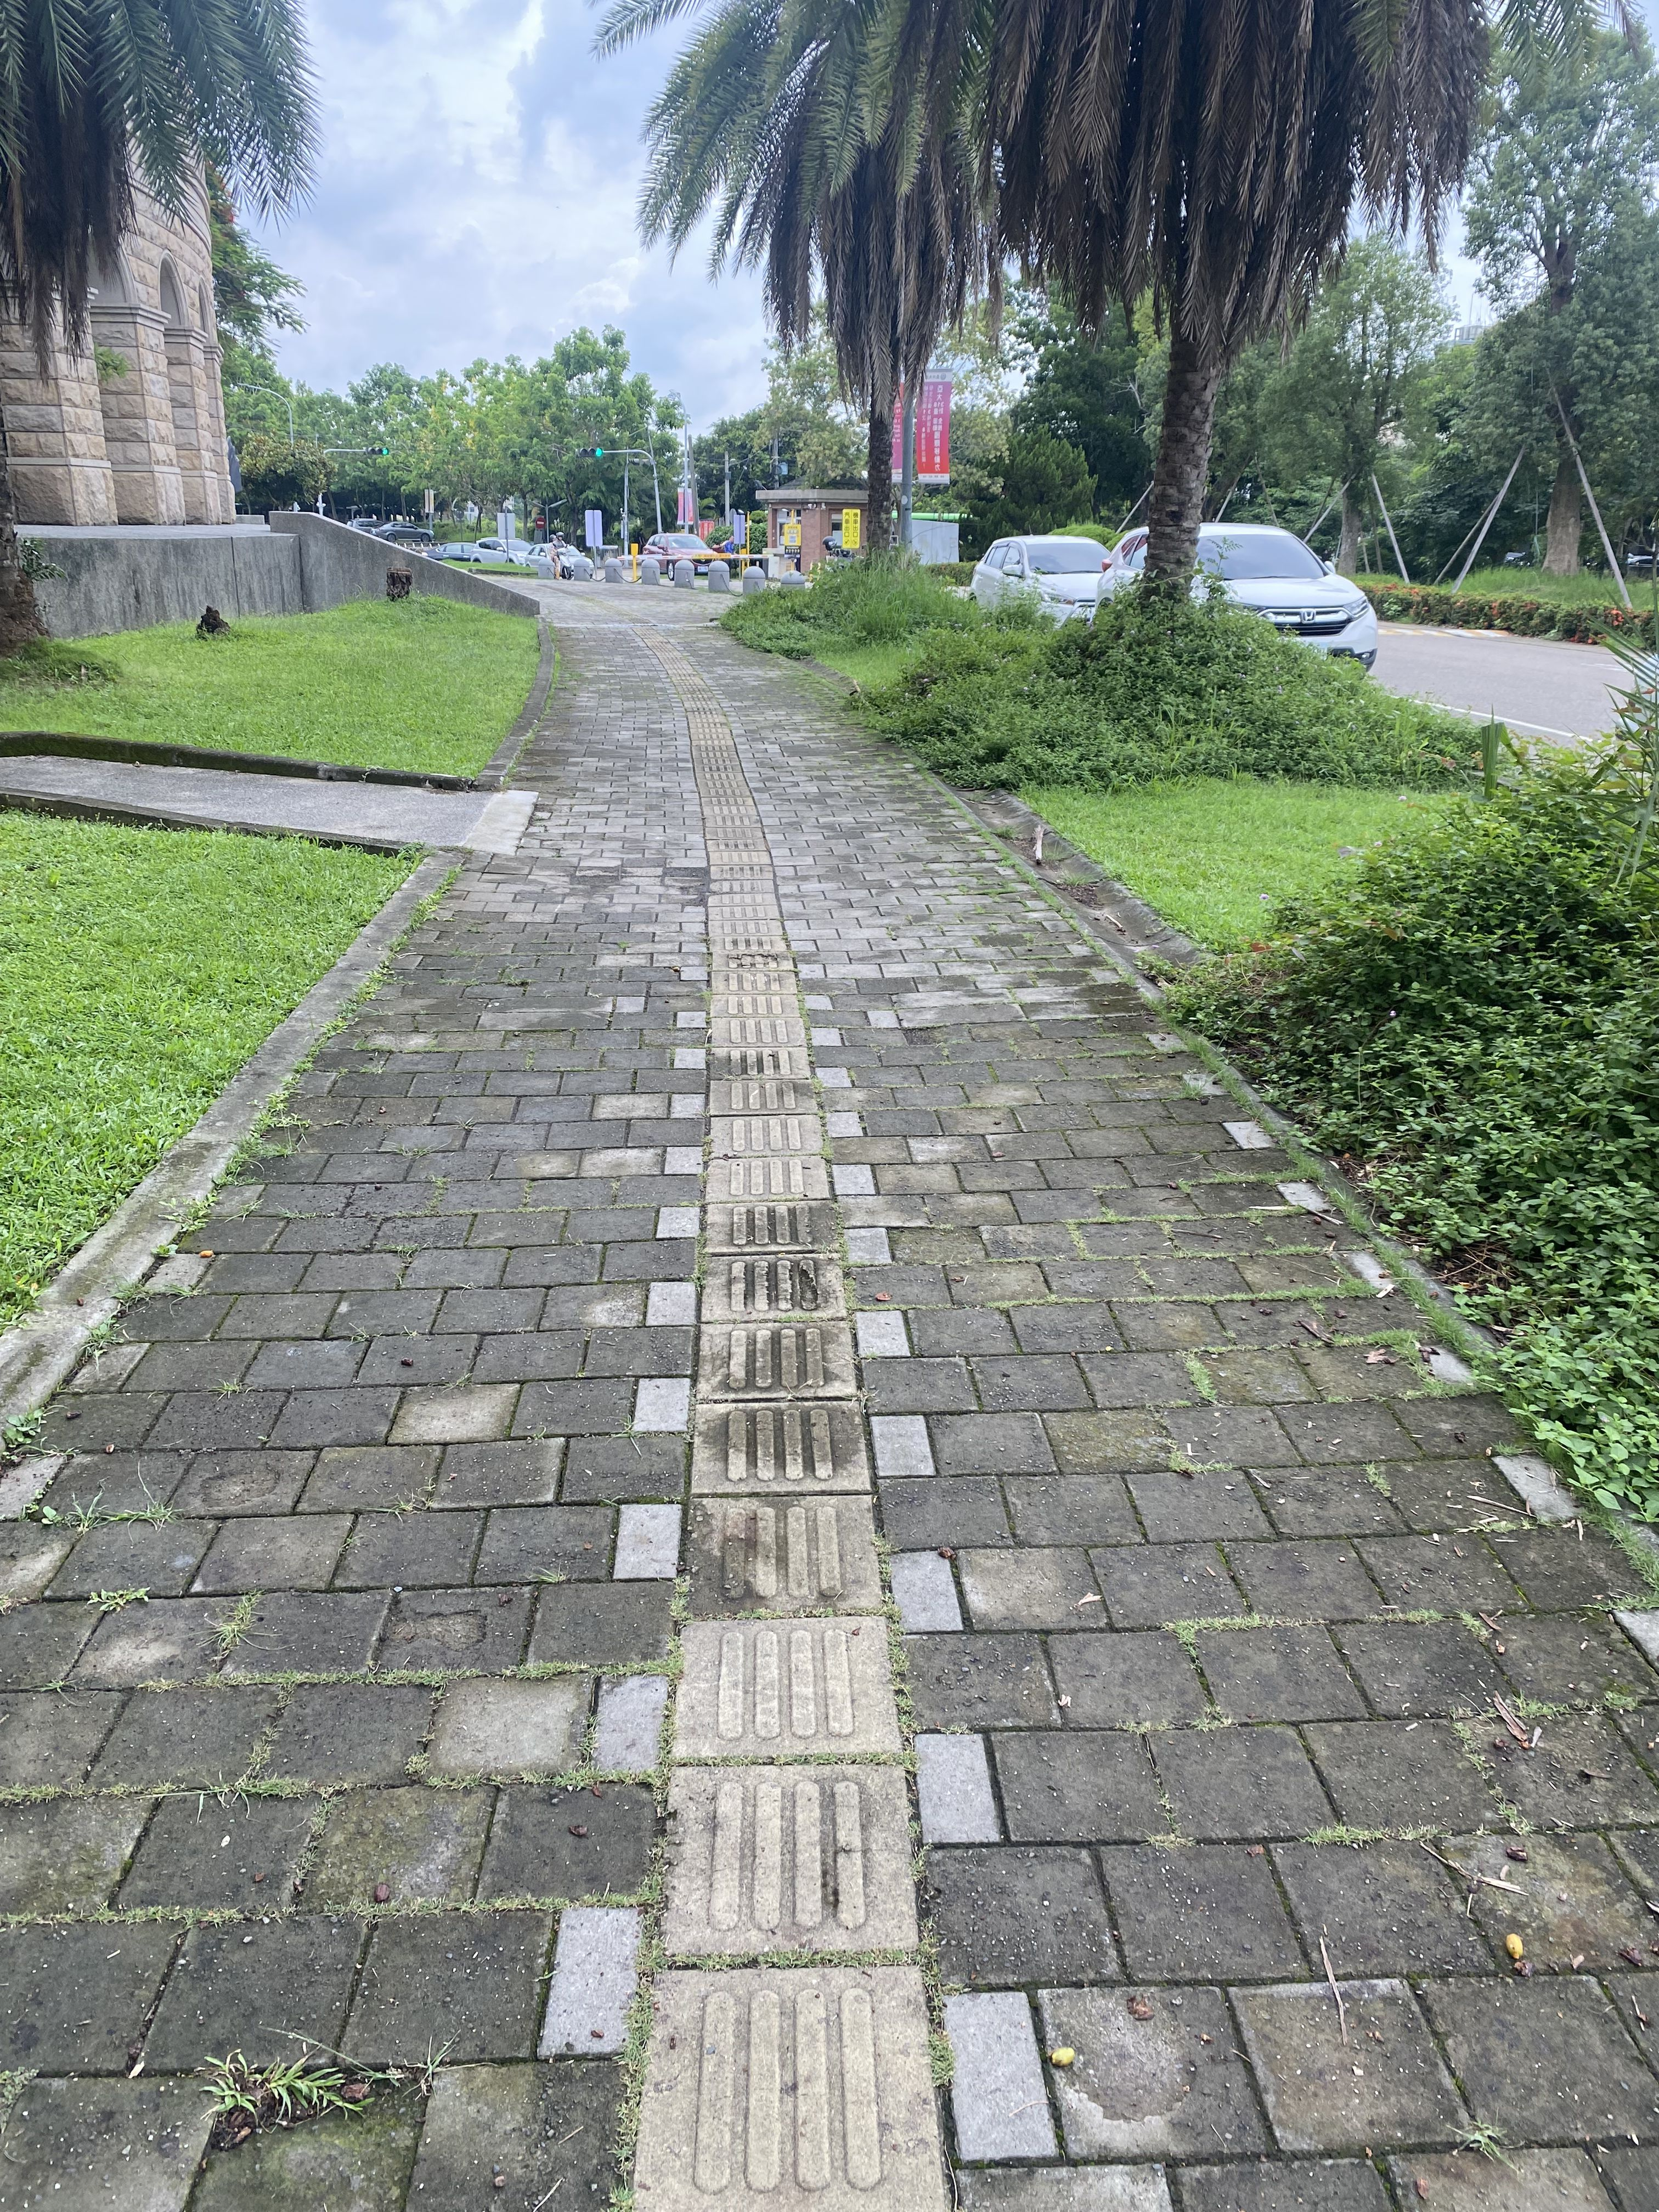0: (0, 860, 1659, 2212)
sidewalk: (471, 566, 1100, 1658)
